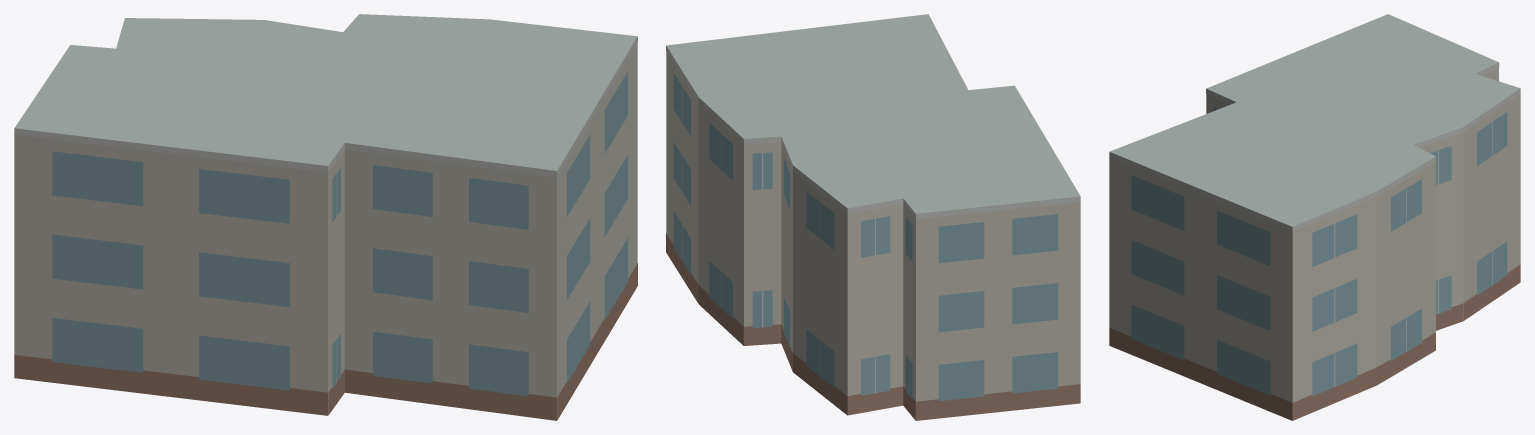
The model's file is survey-upis-32595627.glb.
3 views of the same model, side by side, from view 1: azimuth 30°, elevation 25°; view 2: azimuth 150°, elevation 25°; view 3: azimuth 270°, elevation 25° (orthographic). The views are drawn at different scales.
Visible parts, largest first — view 1: survey-upis-32595627.tmp; view 2: survey-upis-32595627.tmp; view 3: survey-upis-32595627.tmp.
Part boxes in pixels (<box>): survey-upis-32595627.tmp: <box>14,14,637,420</box>; survey-upis-32595627.tmp: <box>666,14,1080,420</box>; survey-upis-32595627.tmp: <box>1109,14,1520,420</box>.
Size of the model in its own units: 21.54 by 9.15 by 17.59.
